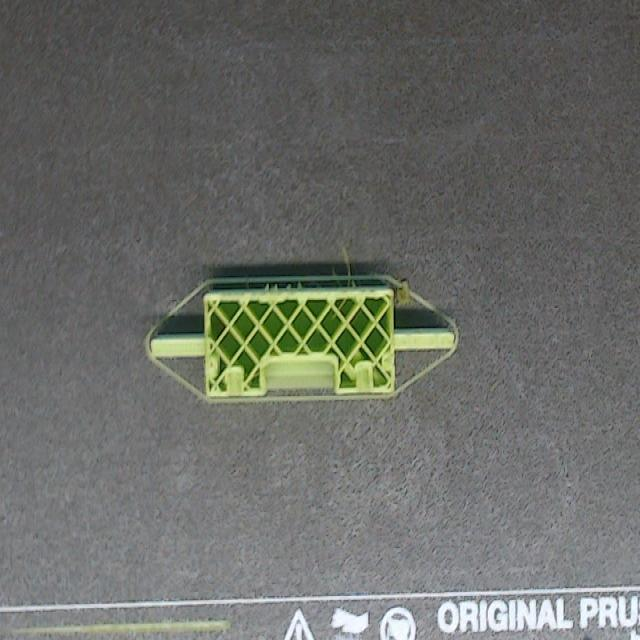mistake: (397, 281, 411, 304), (343, 247, 351, 273), (333, 269, 339, 285), (252, 372, 259, 383), (348, 280, 357, 285)
